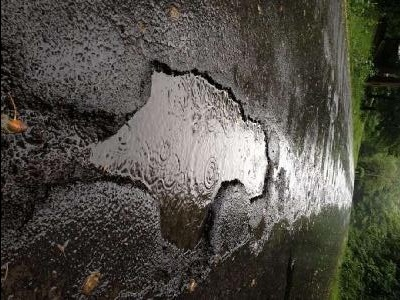pothole: (92, 56, 276, 254)
